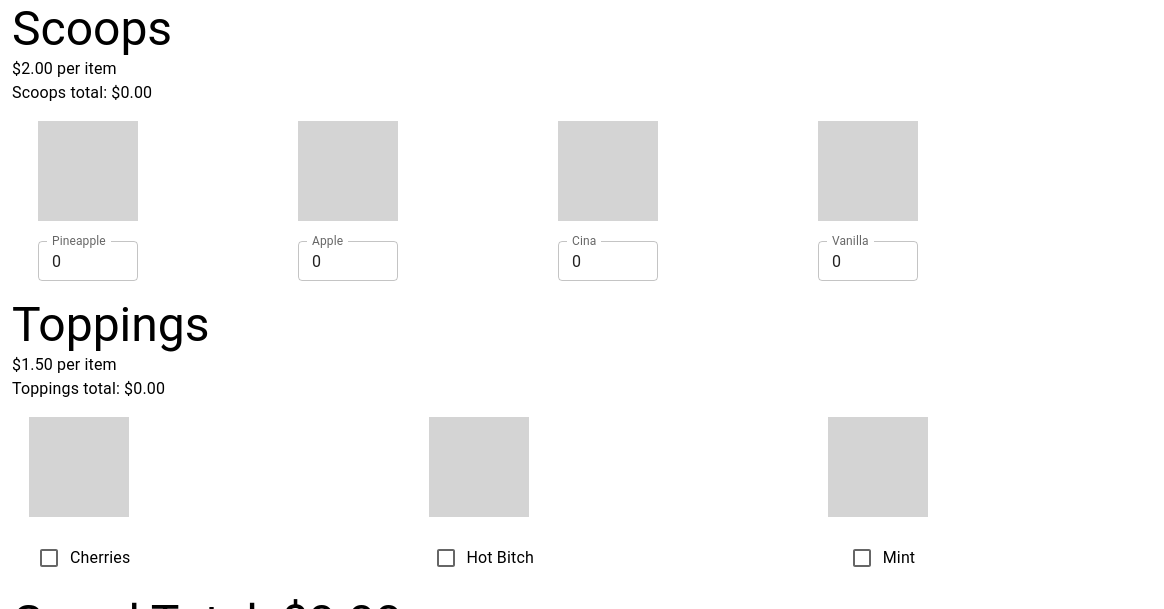
grand total › should update the grand total if an item is removed
Replace the text in the number field with test id "Vanilla" with "1" at (868, 261), box [818,241,918,281]
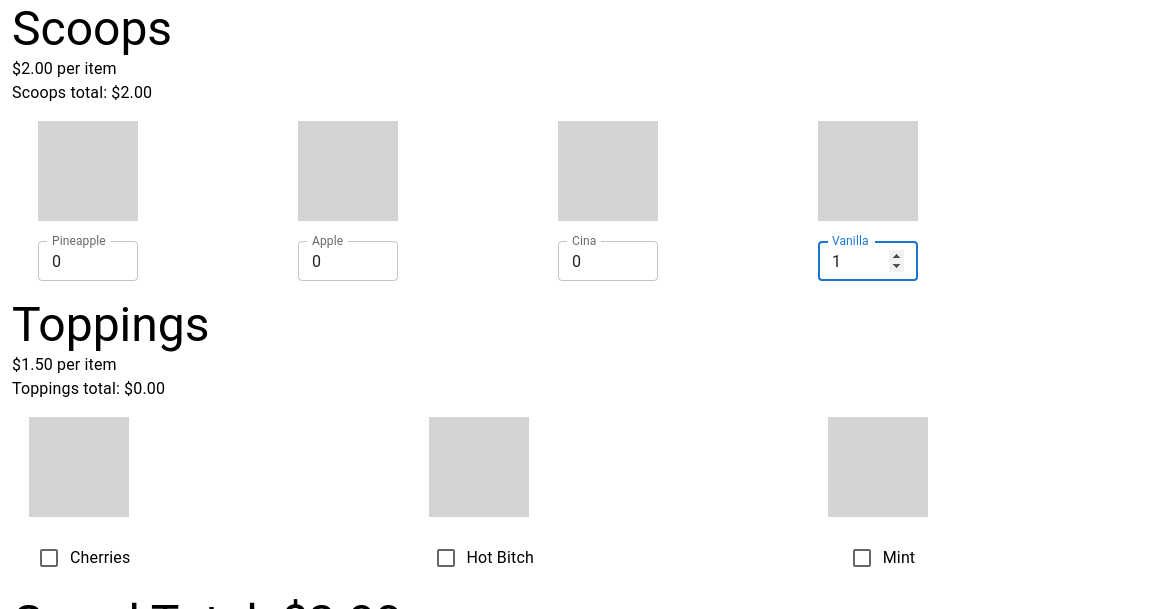
Click the checkbox labelled "Hot Bitch".
click(484, 558)  # box [434,546,534,570]
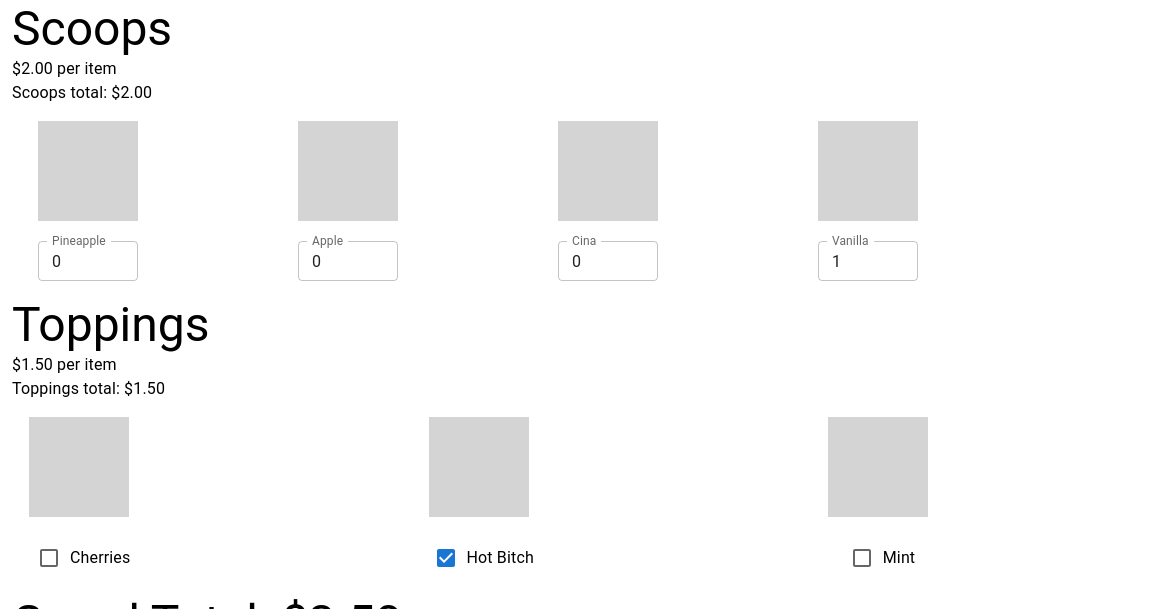
Click the checkbox labelled "Hot Bitch".
click(484, 558)  # box [434,546,534,570]
(page scrolled)
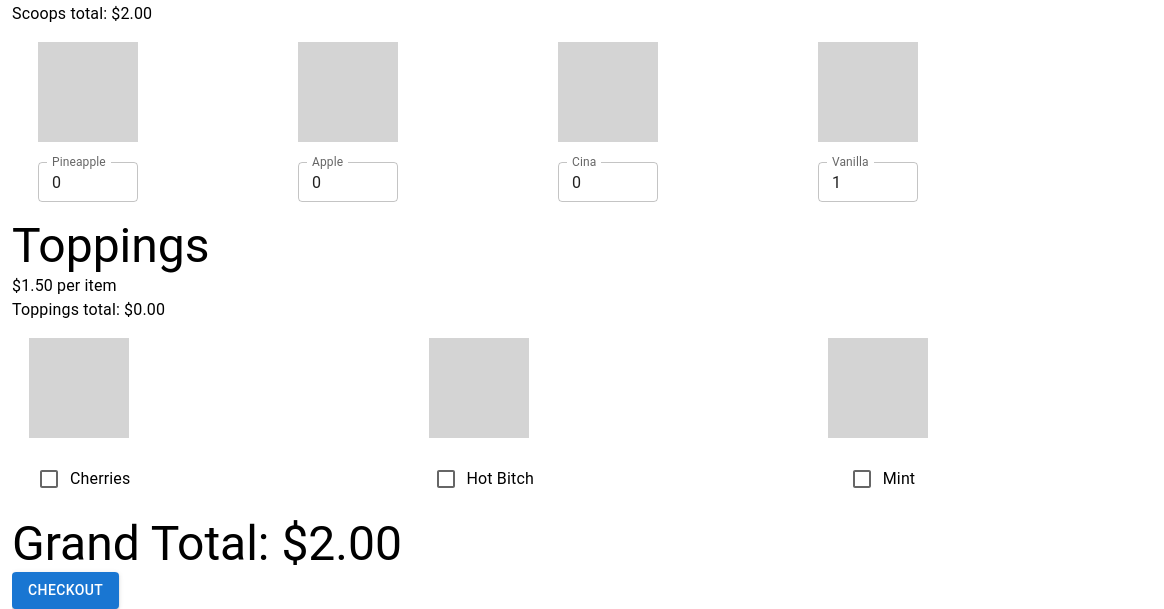
Expected: the heading "Grand Total: $2.00" is shown, [12,515,402,572]
